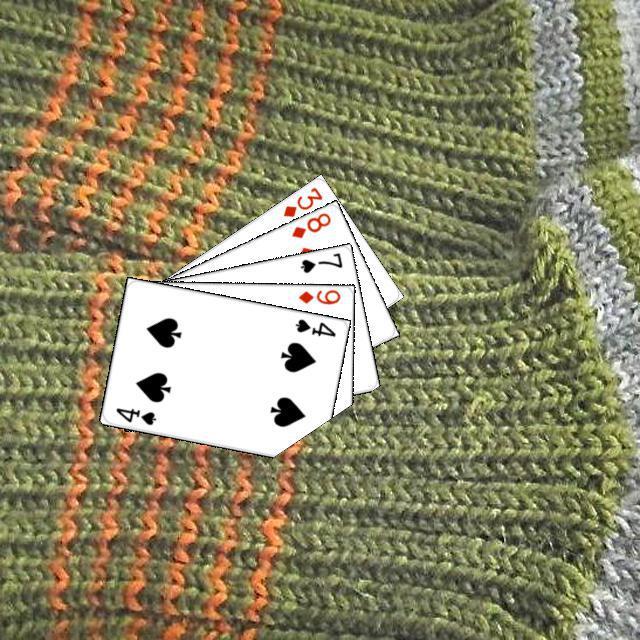3d: (278, 182, 324, 219)
4s: (290, 314, 337, 338), (111, 403, 158, 427)
7s: (295, 248, 344, 275)
8d: (286, 208, 333, 240)
9d: (293, 286, 342, 306)
